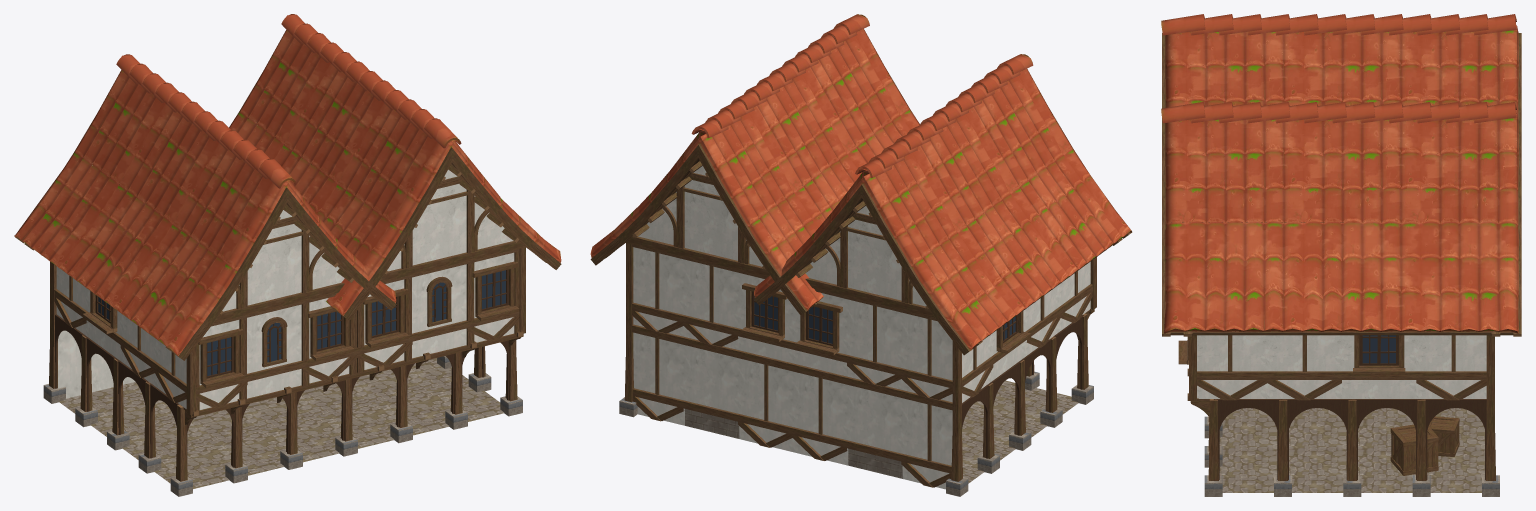
The model's file is market_hall.glb.
The picture shows the model from 3 angles, left to right: view 1: azimuth 30°, elevation 25°; view 2: azimuth 150°, elevation 25°; view 3: azimuth 270°, elevation 25°; orthographic projection. The views are drawn at different scales.
Visible parts, largest first — view 1: Roof_RoundTiles_6x8.127, Roof_RoundTiles_6x8.130, Roof_Front_Brick6.131, Roof_Front_Brick6.128, Wall_Plaster_Window_Thin_Round+upper.095, Wall_Plaster_Window_Thin_Round+upper.101, Wall_Plaster_Window_Wide_Flat2+upper.103, Wall_Plaster_Window_Wide_Flat2+upper.097, Wall_Plaster_Window_Wide_Flat2+upper.099, Wall_Plaster_Window_Wide_Flat2+upper.093, Window_Wide_Flat1.104, Window_Wide_Flat1.094 (+33 smaller); view 2: Roof_RoundTiles_6x8.127, Roof_RoundTiles_6x8.130, Roof_Front_Brick6.132, Roof_Front_Brick6.129, Wall_Plaster_Straight.010, Wall_Plaster_Straight.009, Wall_Plaster_Straight_Base.011, Wall_Plaster_Straight_Base.008, Wall_Plaster_Straight.007, Wall_Plaster_Straight+upper.111, Wall_Plaster_Straight.012, Wall_Plaster_Straight+upper.106 (+22 smaller); view 3: Roof_RoundTiles_6x8.130, Roof_RoundTiles_6x8.127, Wall_Plaster_Straight+upper.119, Wall_Plaster_Straight+upper.118, Wall_Plaster_Straight+upper.122, Wall_Plaster_Window_Wide_Flat+upper.120, Window_Wide_Flat1.121, Floor_UnevenBrick.068, Floor_UnevenBrick.067, Prop_Crate.076, Floor_UnevenBrick.071, Floor_UnevenBrick.072 (+20 smaller).
Boxes of the visible parts, x1,y1,x2,y2 form: Roof_RoundTiles_6x8.127: [14, 54, 396, 360]; Roof_RoundTiles_6x8.130: [229, 14, 561, 320]; Roof_Front_Brick6.131: [380, 165, 526, 282]; Roof_Front_Brick6.128: [213, 205, 353, 323]; Wall_Plaster_Window_Thin_Round+upper.095: [247, 301, 302, 398]; Wall_Plaster_Window_Thin_Round+upper.101: [412, 261, 467, 358]; Wall_Plaster_Window_Wide_Flat2+upper.103: [466, 249, 519, 346]; Wall_Plaster_Window_Wide_Flat2+upper.097: [301, 293, 357, 386]; Wall_Plaster_Window_Wide_Flat2+upper.099: [357, 275, 412, 373]; Wall_Plaster_Window_Wide_Flat2+upper.093: [196, 315, 247, 411]; Window_Wide_Flat1.104: [472, 261, 519, 320]; Window_Wide_Flat1.094: [198, 328, 244, 387]; Roof_RoundTiles_6x8.127: [754, 54, 1132, 355]; Roof_RoundTiles_6x8.130: [590, 14, 919, 315]; Roof_Front_Brick6.132: [625, 161, 769, 277]; Roof_Front_Brick6.129: [796, 201, 934, 317]; Wall_Plaster_Straight.010: [792, 363, 848, 465]; Wall_Plaster_Straight.009: [738, 350, 793, 452]; Wall_Plaster_Straight_Base.011: [847, 377, 902, 478]; Wall_Plaster_Straight_Base.008: [683, 337, 739, 438]; Wall_Plaster_Straight.007: [632, 324, 684, 425]; Wall_Plaster_Straight+upper.111: [847, 296, 902, 389]; Wall_Plaster_Straight.012: [901, 390, 952, 489]; Wall_Plaster_Straight+upper.106: [683, 257, 739, 349]; Roof_RoundTiles_6x8.130: [1161, 102, 1521, 336]; Roof_RoundTiles_6x8.127: [1161, 14, 1521, 120]; Wall_Plaster_Straight+upper.119: [1267, 335, 1341, 400]; Wall_Plaster_Straight+upper.118: [1197, 335, 1267, 400]; Wall_Plaster_Straight+upper.122: [1416, 335, 1486, 400]; Wall_Plaster_Window_Wide_Flat+upper.120: [1342, 335, 1416, 398]; Window_Wide_Flat1.121: [1353, 335, 1405, 374]; Floor_UnevenBrick.068: [1289, 433, 1346, 462]; Floor_UnevenBrick.067: [1219, 433, 1277, 462]; Prop_Crate.076: [1390, 424, 1438, 475]; Floor_UnevenBrick.071: [1219, 463, 1277, 492]; Floor_UnevenBrick.072: [1289, 463, 1346, 492].
Size of the model in its own units: 14.25 by 11.01 by 10.41.
Materials: 7 (6 with a texture image).
